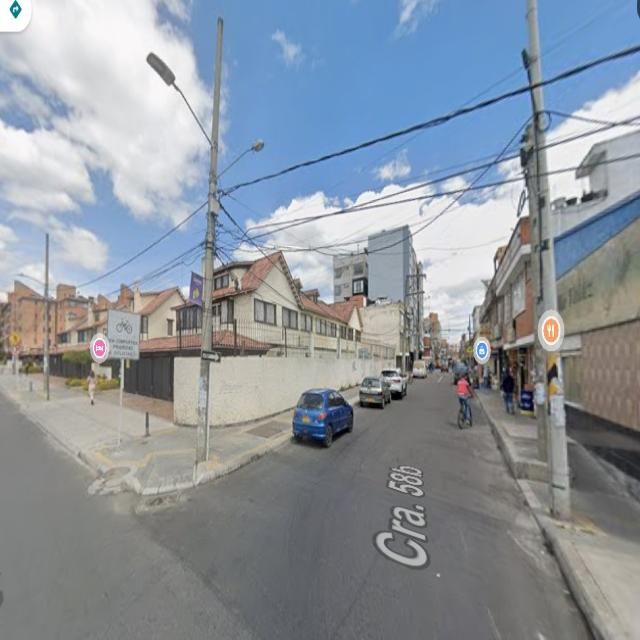Casa: (206, 251, 394, 426), (552, 134, 639, 431), (334, 226, 423, 370), (125, 273, 203, 425), (480, 216, 534, 401), (57, 285, 184, 349), (0, 281, 45, 357), (50, 283, 96, 353), (473, 305, 481, 338)
Poste: (146, 16, 223, 479), (527, 0, 570, 520), (402, 273, 425, 376), (223, 141, 263, 173)
